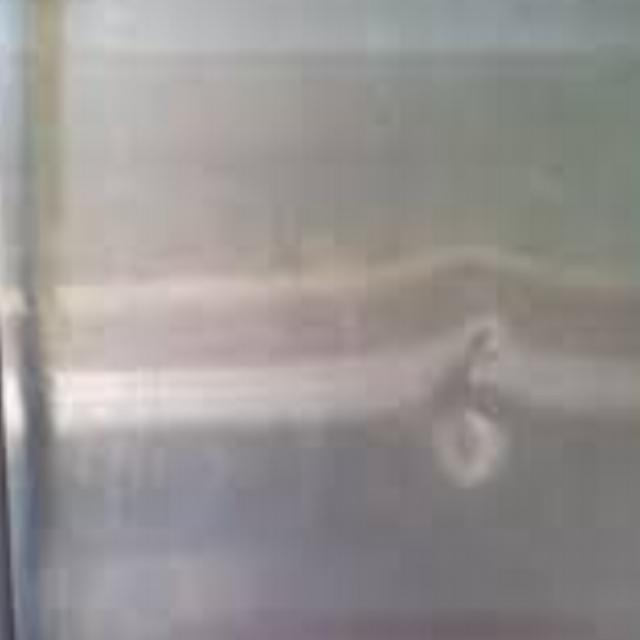dents: (392, 298, 566, 532)
